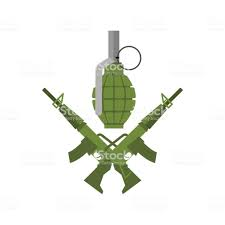e1: (92, 30, 136, 128)
